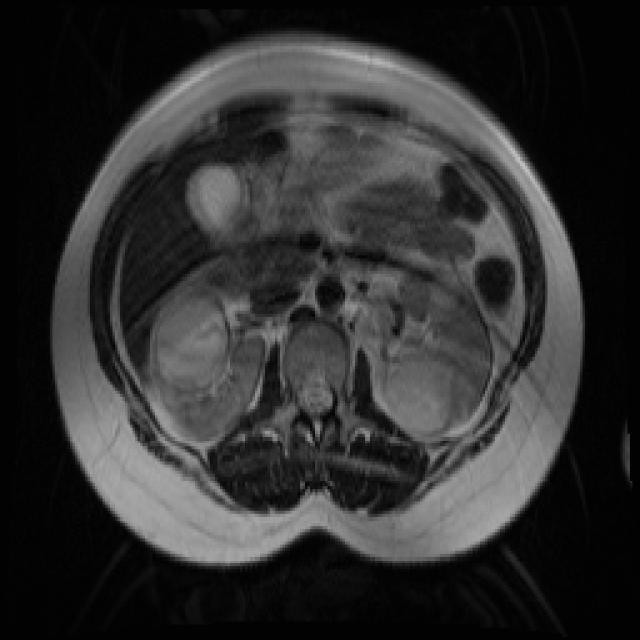sag: (151, 286, 266, 442)
sol: (373, 260, 494, 433)
